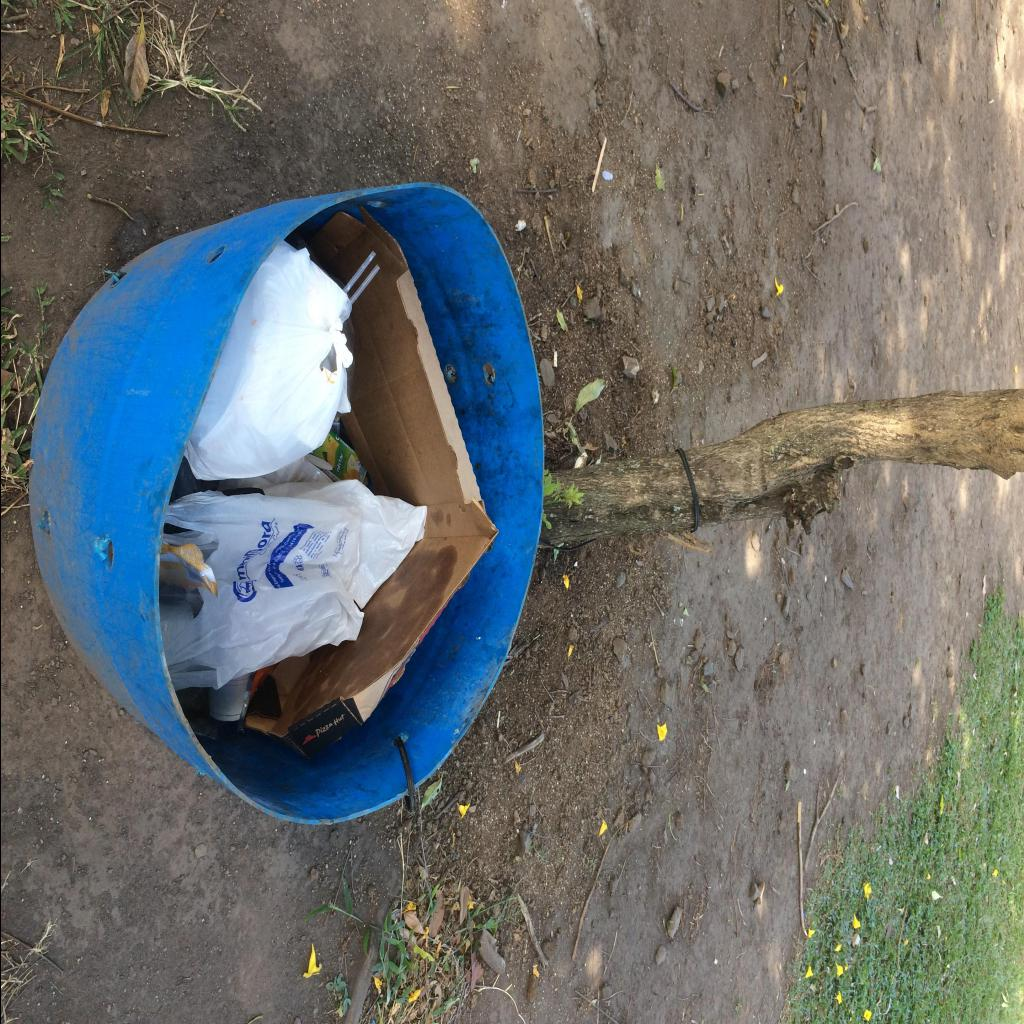Cigarette: (552, 352, 556, 368)
Paper cup: (208, 674, 250, 722)
Plastic film: (158, 542, 216, 598)
Plastic straw: (342, 250, 376, 294), (349, 264, 379, 306)
Single-use carrier bag: (162, 456, 426, 690), (184, 240, 352, 480)
